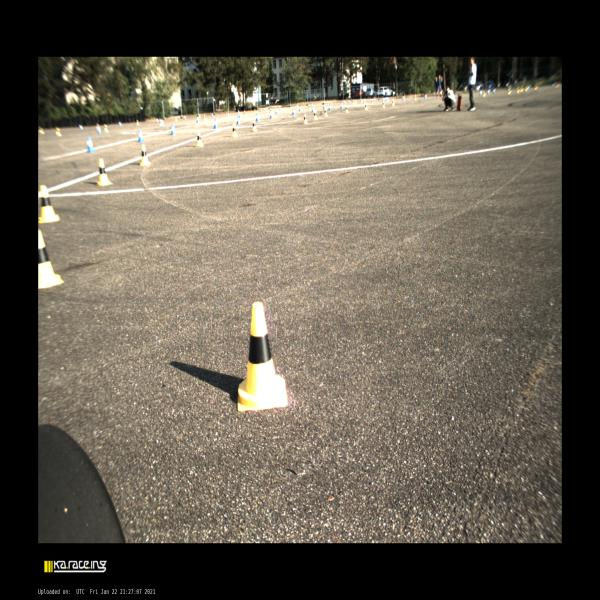blue_cone: (87, 136, 95, 152), (137, 129, 144, 141), (170, 124, 176, 134), (213, 119, 218, 128), (255, 113, 260, 121), (236, 115, 240, 124), (291, 108, 295, 115), (340, 102, 344, 109), (161, 121, 165, 128), (98, 127, 102, 134), (196, 116, 200, 122), (270, 111, 273, 118), (329, 104, 332, 111), (275, 108, 278, 114), (299, 105, 301, 111), (312, 106, 314, 112), (403, 96, 405, 101), (424, 94, 426, 99), (184, 116, 186, 120), (212, 113, 214, 117), (238, 110, 240, 114), (480, 91, 482, 95), (493, 89, 495, 93), (260, 108, 262, 111), (382, 98, 384, 101), (157, 118, 158, 123), (374, 98, 375, 102), (488, 90, 489, 94), (349, 100, 350, 103)
yellow_cone: (237, 301, 287, 411), (38, 230, 64, 289), (38, 185, 60, 223), (97, 158, 113, 186), (140, 144, 150, 166), (195, 131, 203, 147), (231, 124, 238, 137), (251, 120, 258, 132), (312, 110, 318, 120), (303, 114, 308, 124), (324, 107, 328, 116), (344, 105, 348, 113), (364, 103, 368, 110), (58, 130, 62, 136), (105, 126, 109, 132), (382, 101, 385, 108), (203, 114, 206, 121), (308, 105, 311, 110), (414, 95, 417, 100), (392, 99, 394, 106), (244, 110, 246, 117), (371, 99, 373, 105), (227, 111, 229, 116), (352, 100, 354, 105), (363, 99, 365, 104), (386, 98, 388, 103), (483, 92, 485, 97), (508, 89, 510, 94), (516, 88, 518, 93), (354, 100, 356, 104), (360, 99, 362, 103), (254, 109, 256, 112)
